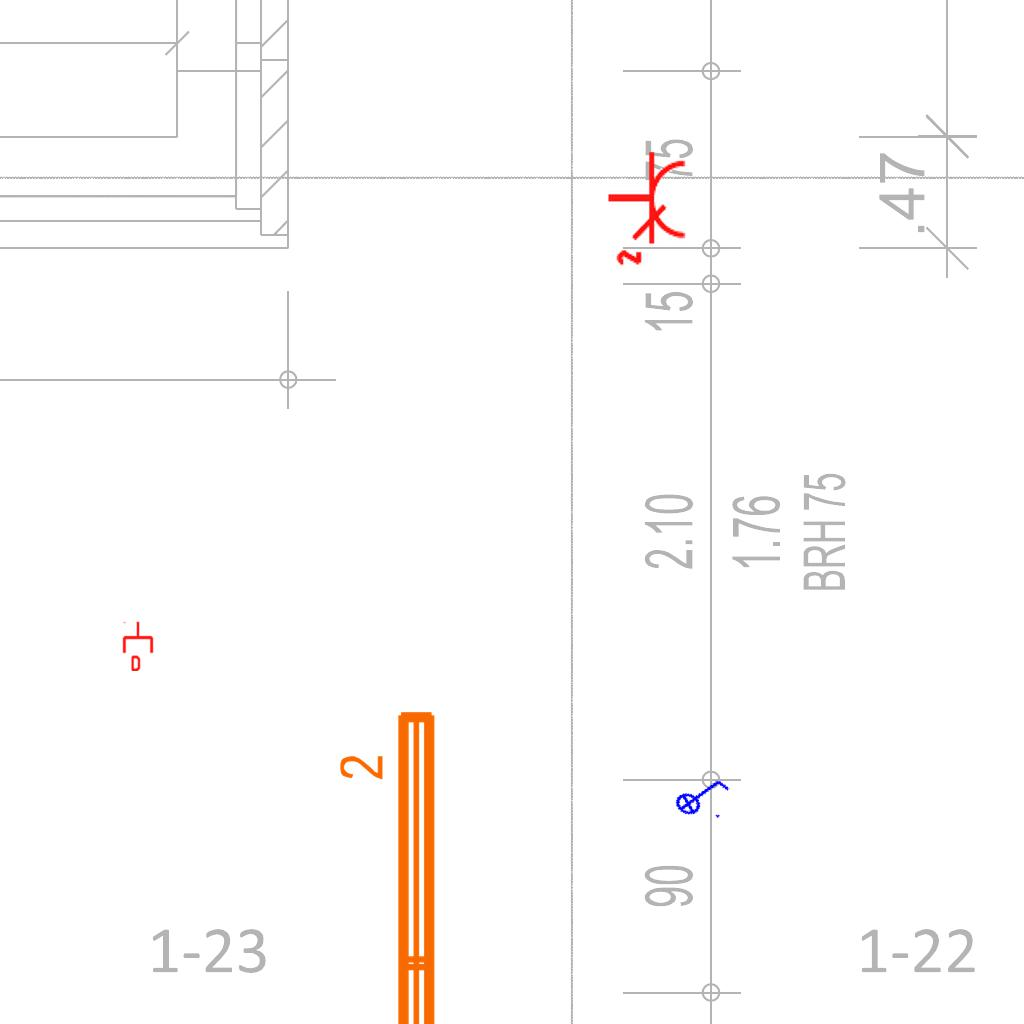Ambulanz_Pendelleuchte_LED: (335, 703, 447, 1024)
Ausschalter_beleuchtet: (666, 762, 736, 828)
Datenanschluss_einfach: (121, 621, 155, 671)
Schukosteckdose_mehrfach: (602, 147, 690, 268)
